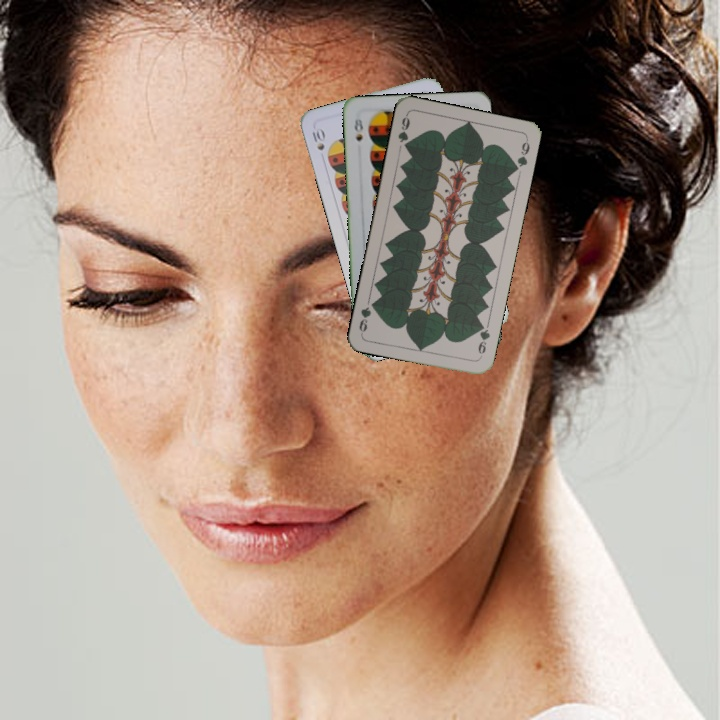G9: (474, 319, 493, 360), (394, 111, 412, 152)
S10: (308, 123, 328, 153)
S8: (350, 114, 366, 144)
